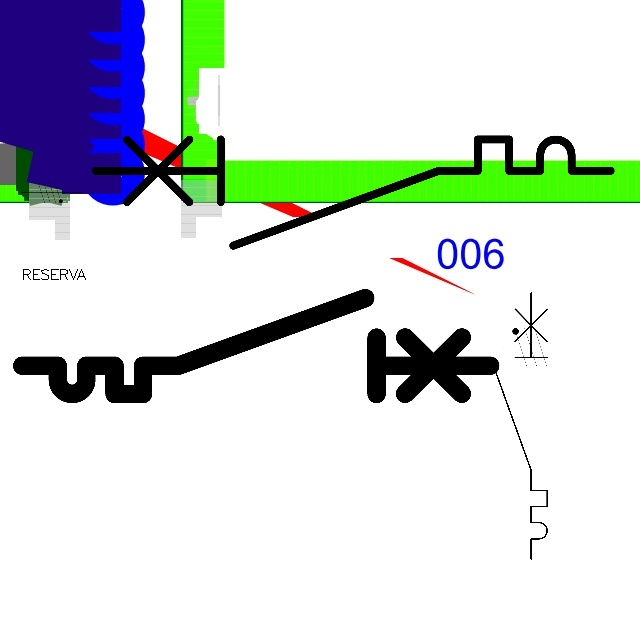interruptor_termomagnetico: (82, 126, 624, 258), (10, 286, 502, 406), (486, 286, 554, 566)
